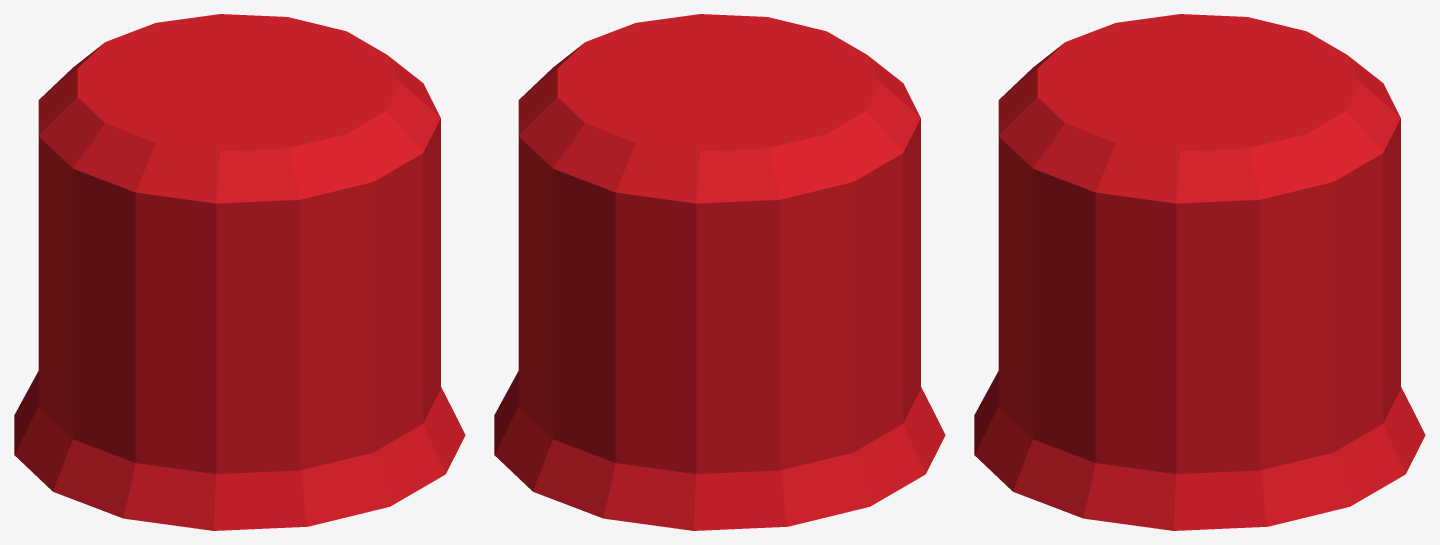
The model's file is possitive.glb.
3 renders of one model, left to right at view 1: azimuth 30°, elevation 25°; view 2: azimuth 150°, elevation 25°; view 3: azimuth 270°, elevation 25°, orthographic.
Visible parts, largest first — view 1: BATTERY.001; view 2: BATTERY.001; view 3: BATTERY.001.
Part boxes in pixels (box(x1,y1,x2,y2)): BATTERY.001: box(14, 14, 465, 530); BATTERY.001: box(494, 14, 945, 530); BATTERY.001: box(974, 14, 1425, 530).
Size of the model in its own units: 1.99 by 1.71 by 1.98.
